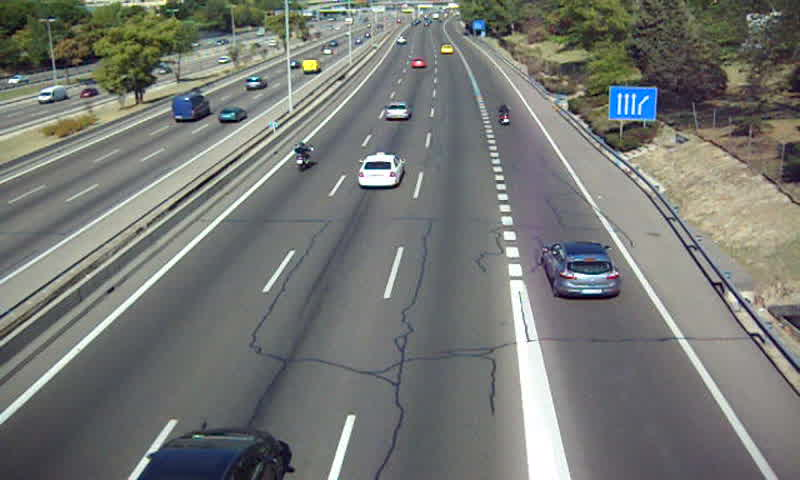car: (542, 241, 621, 298), (358, 154, 403, 187), (383, 101, 410, 121), (411, 56, 429, 70), (440, 44, 454, 55)
motorcycle: (292, 140, 313, 173), (498, 103, 514, 128)
